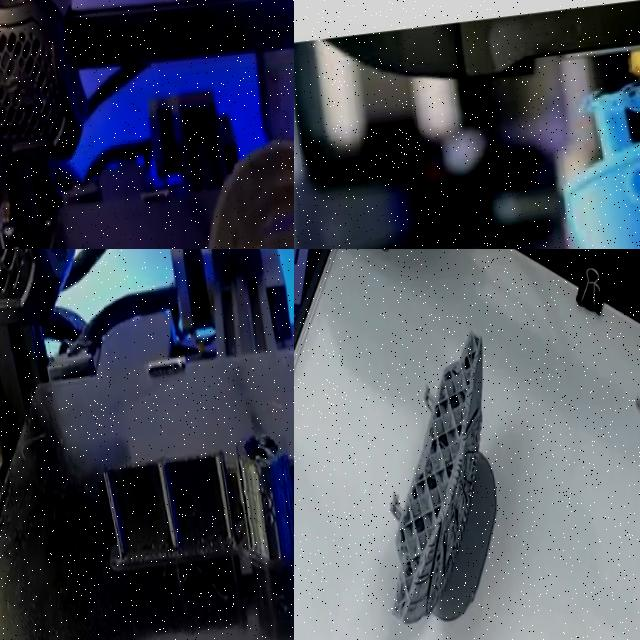spaghetti: (575, 49, 640, 126)
